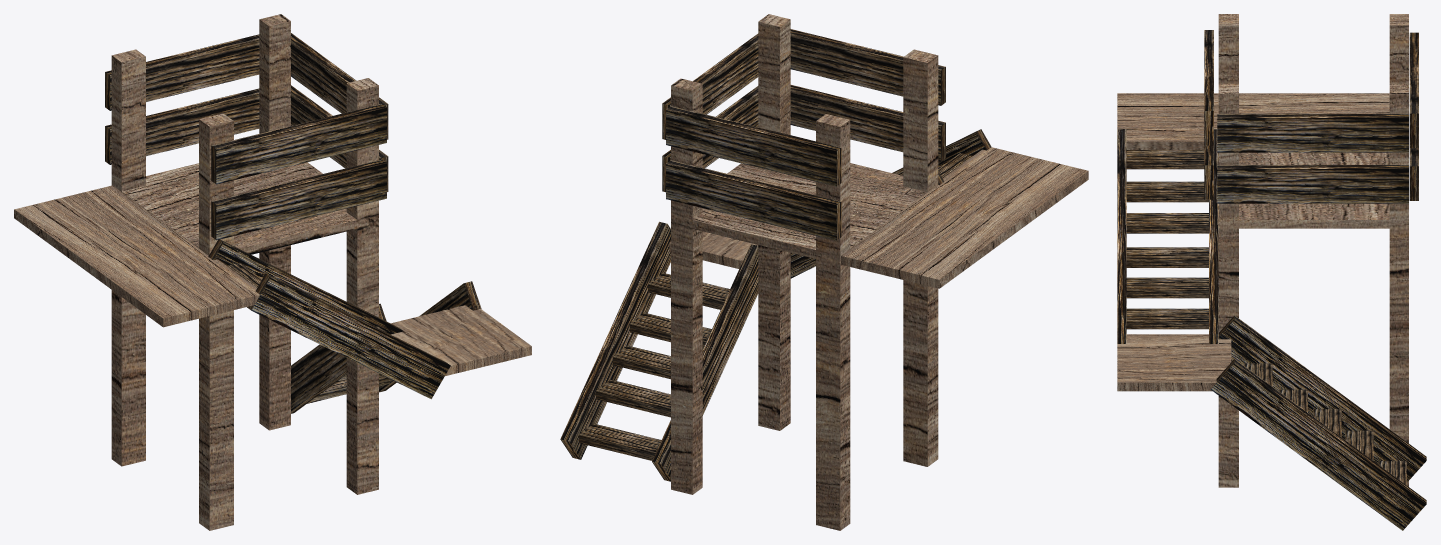
File: outpost 2.fbx
The picture shows the model from 3 angles, left to right: view 1: azimuth 30°, elevation 25°; view 2: azimuth 150°, elevation 25°; view 3: azimuth 270°, elevation 25°; orthographic projection. The views are drawn at different scales.
Parts seen in each view (by area): view 1: pCube1, pCube7, pCube5, pCube24, pCube23, pCube6, pCube21, pCube22, pCube20, pCube3, pCube2, pCube19 (+1 smaller); view 2: pCube1, pCube7, pCube22, pCube21, pCube4, pCube24, pCube2, pCube23, pCube20, pCube8, pCube9, pCube6 (+5 smaller); view 3: pCube1, pCube4, pCube7, pCube20, pCube19, pCube2, pCube6, pCube5, pCube14, pCube13, pCube17, pCube16 (+12 smaller).
Boxes of the visible parts, bbox=[...] form: pCube1: bbox=[111, 14, 378, 530]; pCube7: bbox=[14, 185, 259, 327]; pCube5: bbox=[247, 273, 450, 399]; pCube24: bbox=[211, 104, 386, 184]; pCube23: bbox=[211, 159, 386, 240]; pCube6: bbox=[391, 305, 531, 375]; pCube21: bbox=[105, 34, 259, 110]; pCube22: bbox=[105, 88, 259, 164]; pCube20: bbox=[291, 33, 388, 139]; pCube3: bbox=[208, 239, 403, 334]; pCube2: bbox=[291, 303, 386, 413]; pCube19: bbox=[291, 85, 388, 191]; pCube1: bbox=[671, 14, 938, 530]; pCube7: bbox=[841, 147, 1088, 288]; pCube22: bbox=[666, 160, 841, 240]; pCube21: bbox=[666, 106, 841, 186]; pCube4: bbox=[560, 221, 670, 459]; pCube24: bbox=[790, 29, 945, 105]; pCube2: bbox=[652, 244, 758, 481]; pCube23: bbox=[790, 85, 945, 161]; pCube20: bbox=[662, 33, 758, 139]; pCube8: bbox=[579, 423, 661, 460]; pCube9: bbox=[596, 380, 670, 417]; pCube6: bbox=[669, 231, 758, 268]; pCube1: bbox=[1218, 14, 1408, 487]; pCube4: bbox=[1210, 359, 1426, 530]; pCube7: bbox=[1117, 93, 1389, 149]; pCube20: bbox=[1217, 114, 1408, 152]; pCube19: bbox=[1217, 165, 1408, 203]; pCube2: bbox=[1218, 315, 1426, 482]; pCube6: bbox=[1117, 334, 1231, 391]; pCube5: bbox=[1117, 129, 1126, 343]; pCube14: bbox=[1126, 277, 1208, 298]; pCube13: bbox=[1126, 308, 1208, 329]; pCube17: bbox=[1126, 181, 1208, 202]; pCube16: bbox=[1126, 213, 1208, 233].
Bounding box in the file's own units: 21.79 × 22.78 × 16.26.
Materials: 5 (5 with a texture image).
